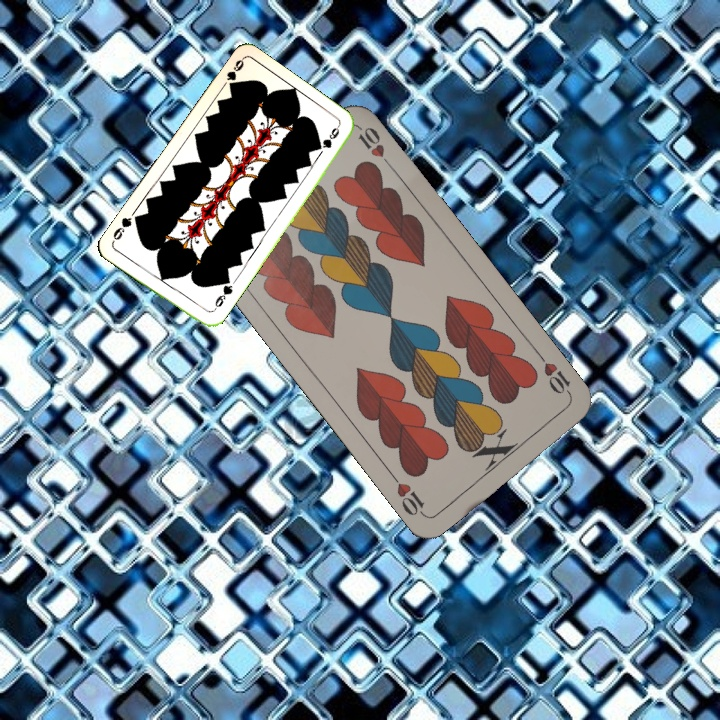G9: (217, 55, 247, 91), (208, 277, 235, 315)
H10: (534, 350, 575, 402)
